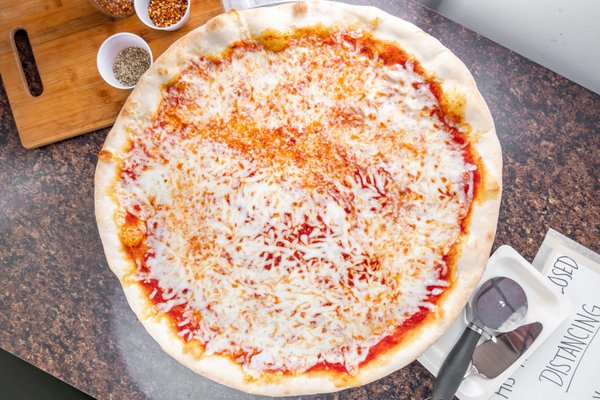pizza: (96, 31, 154, 89)
sandwich: (10, 27, 43, 97)
sushi: (97, 31, 154, 89), (133, 0, 192, 31)
